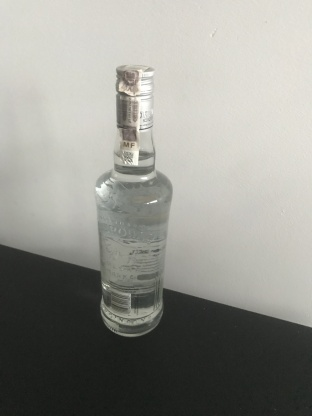nakretka: (114, 62, 155, 133)
